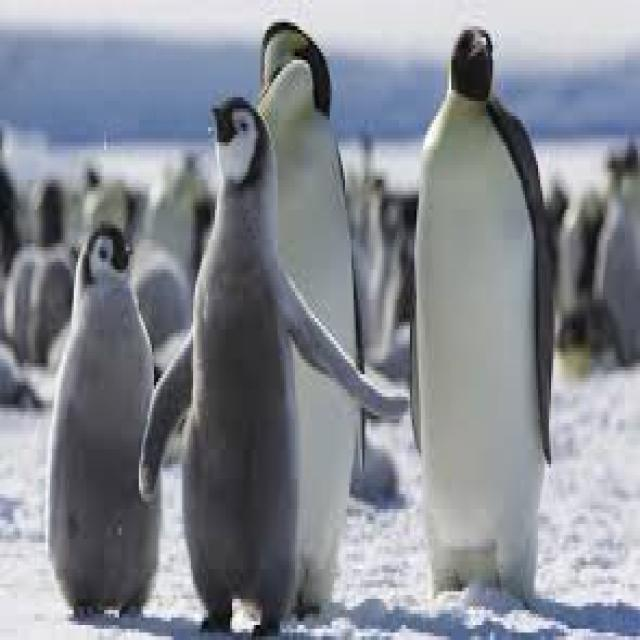penguin: (139, 97, 408, 625), (410, 22, 551, 595), (46, 225, 158, 610), (258, 22, 354, 356)
